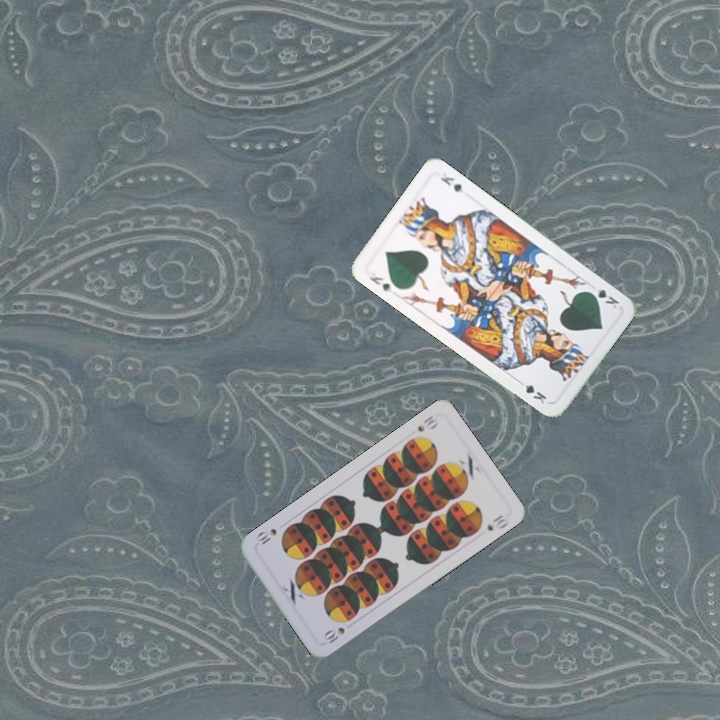GK: (584, 284, 622, 312), (366, 272, 395, 295)
S10: (413, 411, 441, 434), (321, 623, 347, 646)
